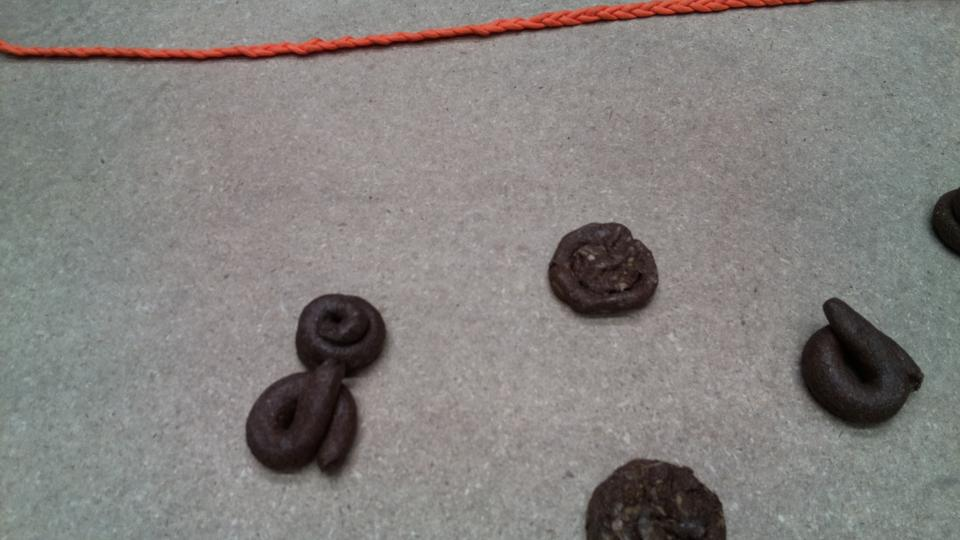poop: (796, 293, 928, 428), (244, 359, 360, 477), (582, 454, 733, 540), (545, 219, 662, 322), (293, 291, 387, 376), (929, 178, 960, 262)
rope: (1, 1, 769, 63)
